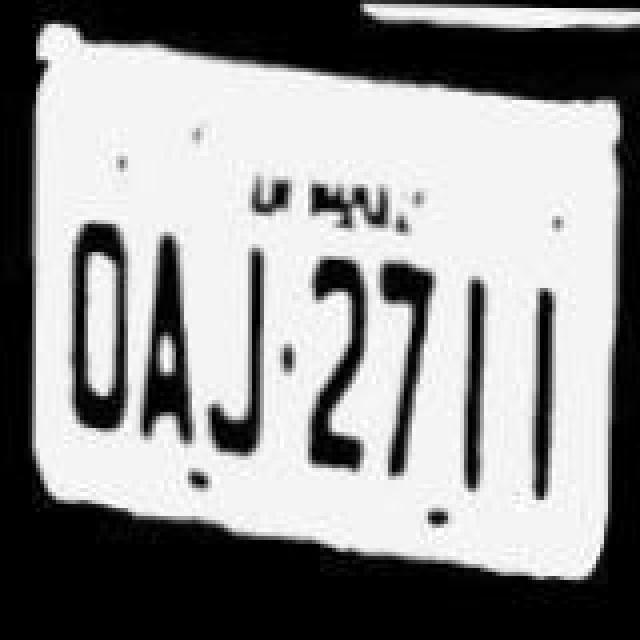1: (516, 256, 572, 520), (454, 246, 510, 506)
2: (290, 242, 378, 498)
7: (372, 244, 448, 492)
A: (130, 216, 202, 468)
J: (204, 226, 280, 470)
O: (48, 200, 132, 472)
